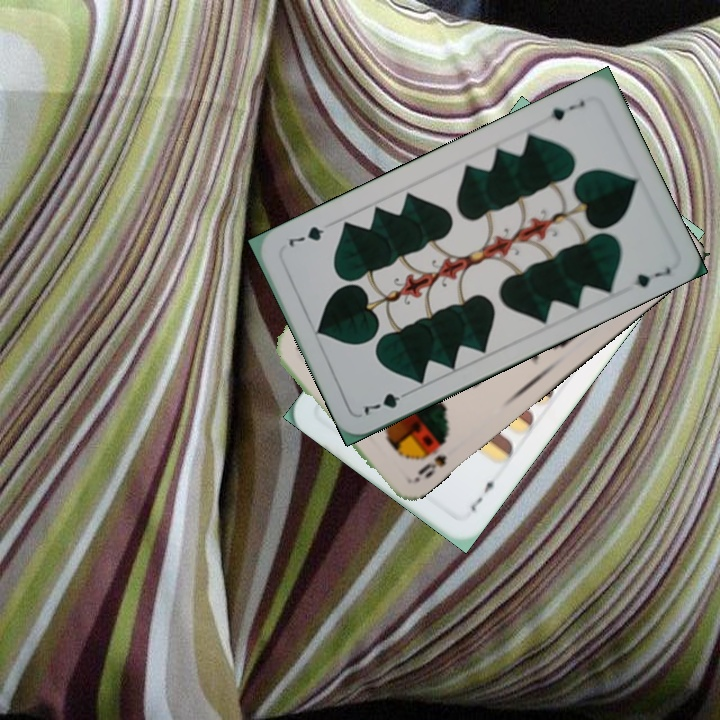E7: (466, 472, 502, 514)
G7: (359, 386, 414, 418), (546, 96, 588, 123)
SO: (409, 433, 450, 486)
